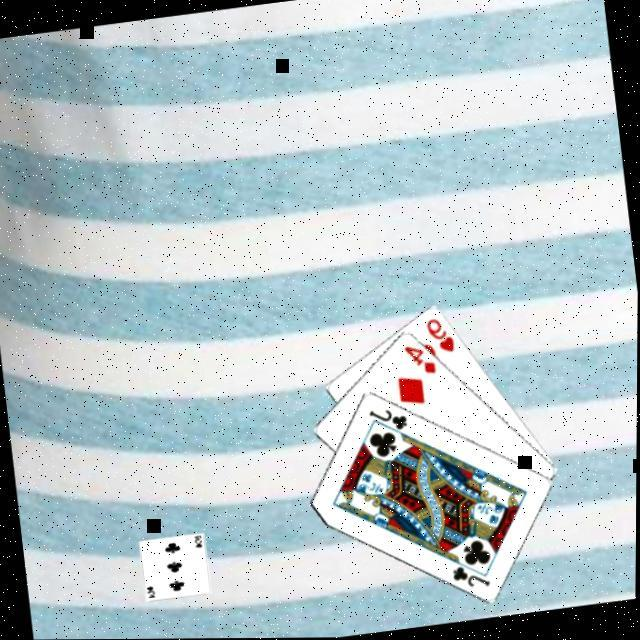4D: (399, 339, 437, 380)
9H: (421, 314, 456, 358)
JC: (363, 403, 408, 437), (447, 561, 492, 595)
